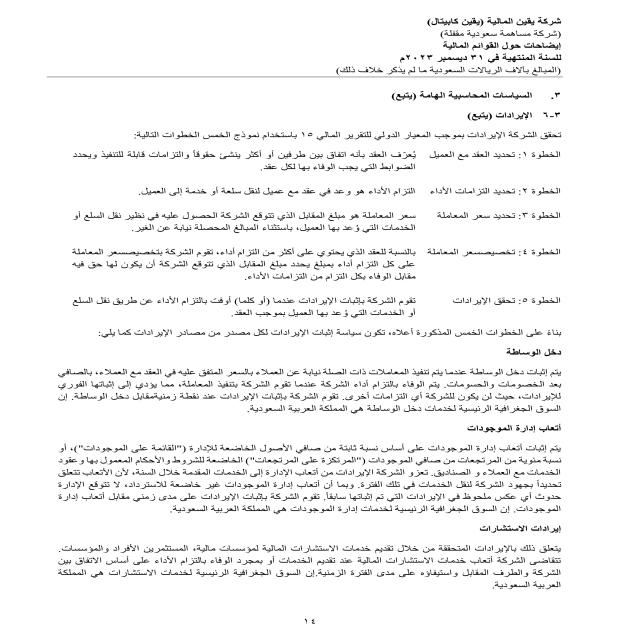notes: (433, 39, 569, 54)
text: (23, 86, 574, 601)
